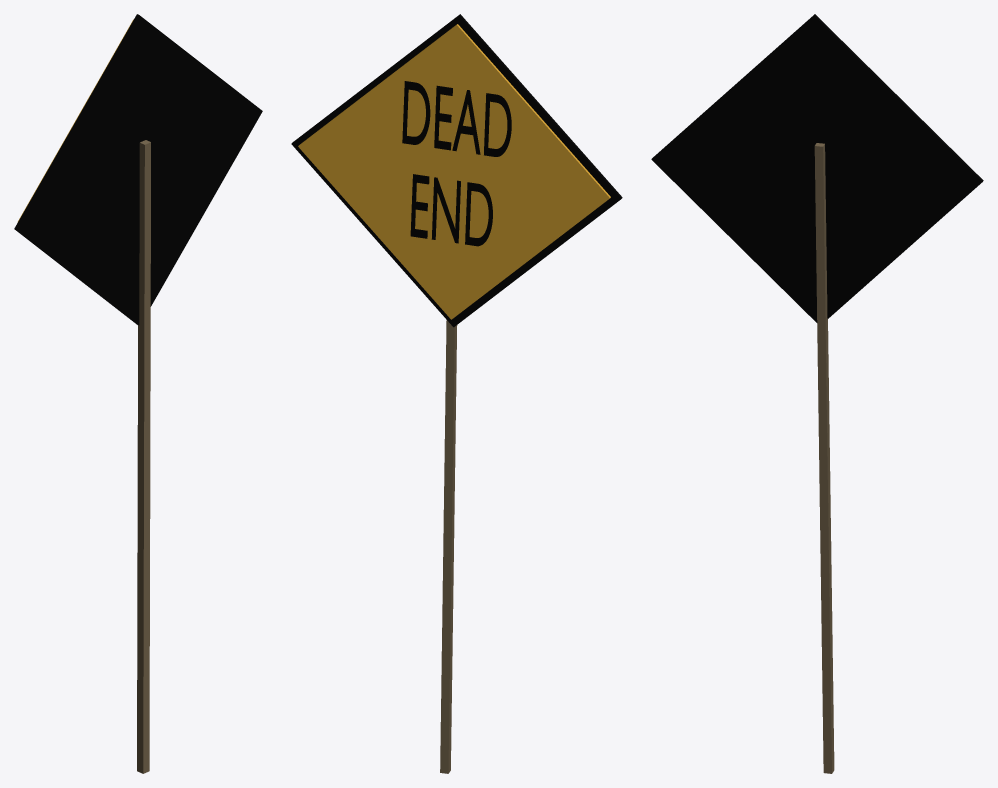
The model's file is deadEndSign.fbx.
3 views of the same model, side by side, from view 1: azimuth 30°, elevation 25°; view 2: azimuth 150°, elevation 25°; view 3: azimuth 330°, elevation 25° (orthographic).
Parts seen in each view (by area): view 1: Cube.002, Cube; view 2: Cube.001, Cube.002, Text, Cube; view 3: Cube.002, Cube.
Part boxes in pixels (x1,y1,x2,y2): Cube.002: (14,14,262,325); Cube: (137,140,150,773); Cube.001: (298,24,610,319); Cube.002: (291,14,622,327); Text: (402,81,511,246); Cube: (440,320,457,773); Cube.002: (651,14,983,322); Cube: (814,143,834,773).
Bounding box in the file's own units: 759 × 1904 × 212.
